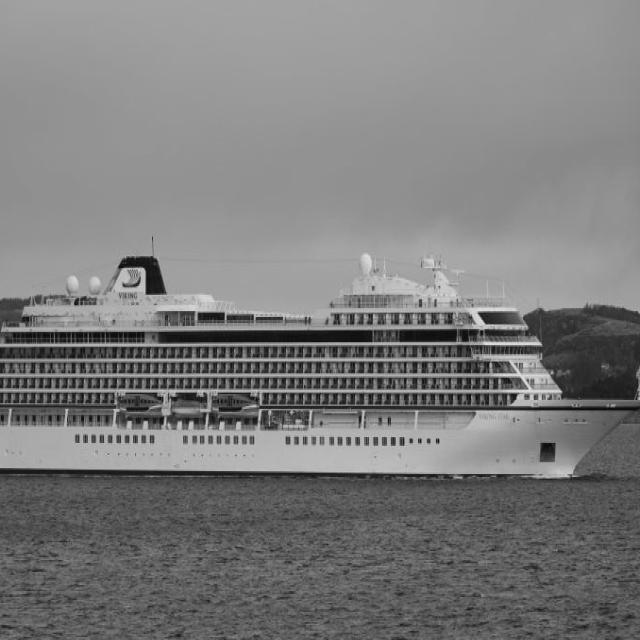cruises: (1, 225, 640, 500)
